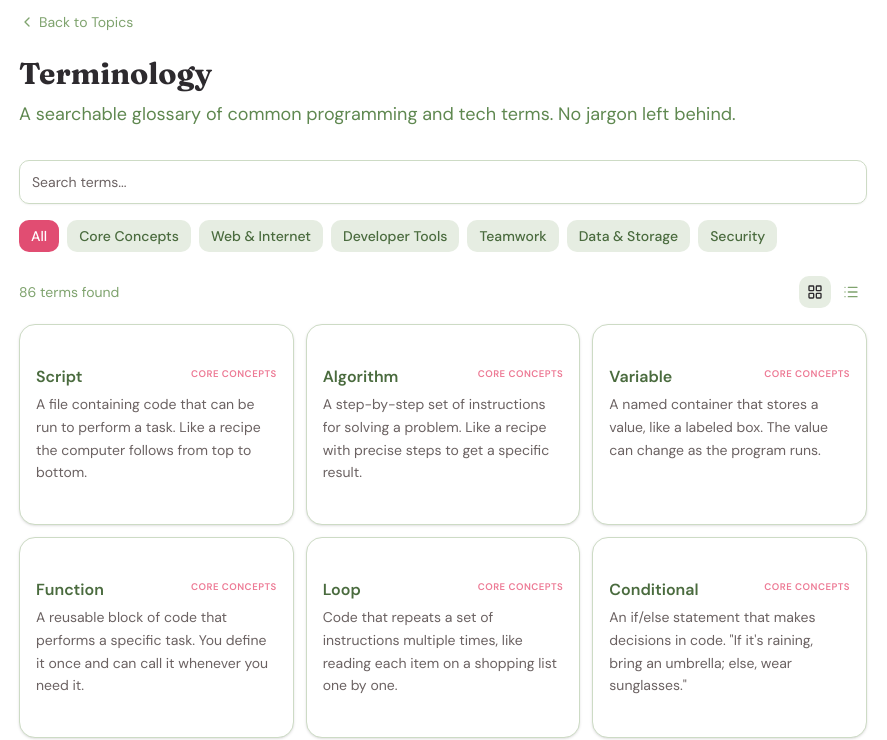
Scenario: TerminologyPage › shows no terms found when search has no matches
Type "xyznonexistentterm" into the field with placeholder "Search terms..." at (443, 182), box [19, 160, 867, 204]
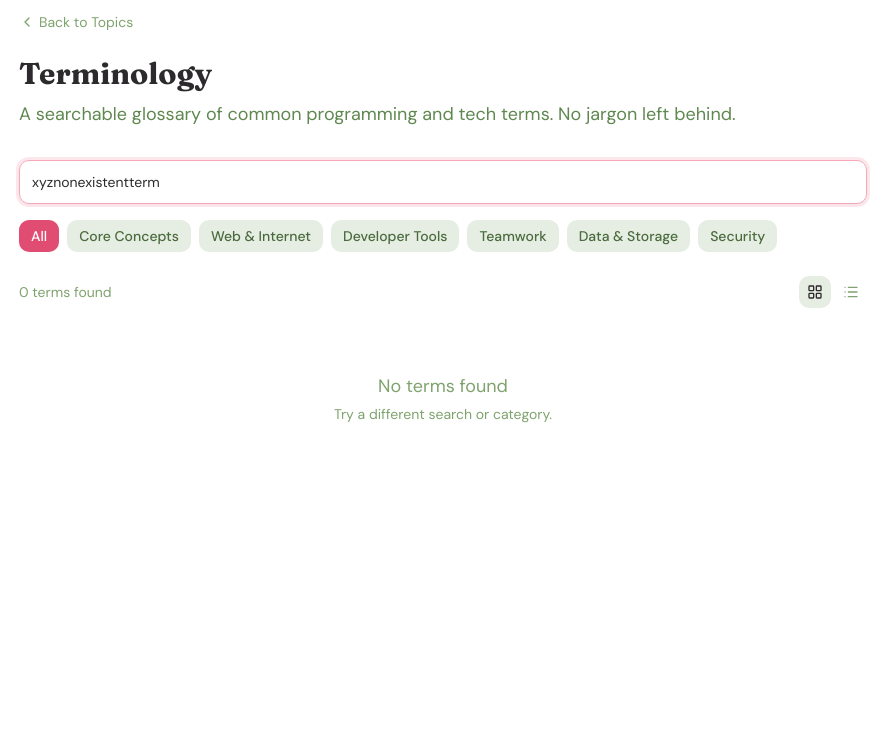
Result: the text "No terms found" is shown at [378, 374, 508, 398]
Result: the text "0 terms found" is shown at [19, 282, 112, 302]
